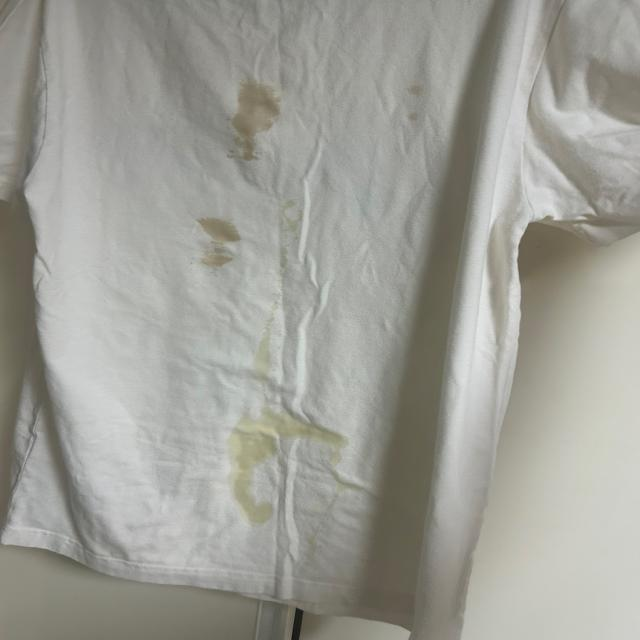stain: (230, 409, 353, 456), (220, 76, 278, 166), (194, 212, 252, 272), (234, 452, 278, 525), (396, 81, 428, 142), (254, 320, 278, 377), (269, 205, 300, 241)
